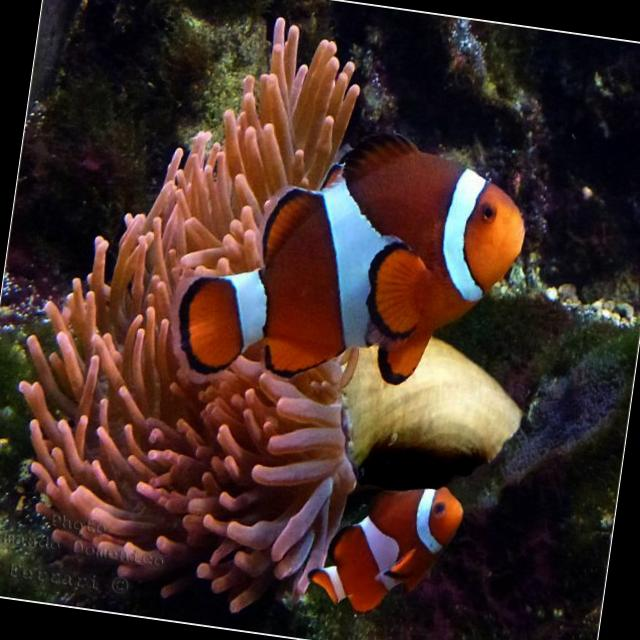ClownFish: (166, 105, 536, 416), (305, 472, 467, 627)
